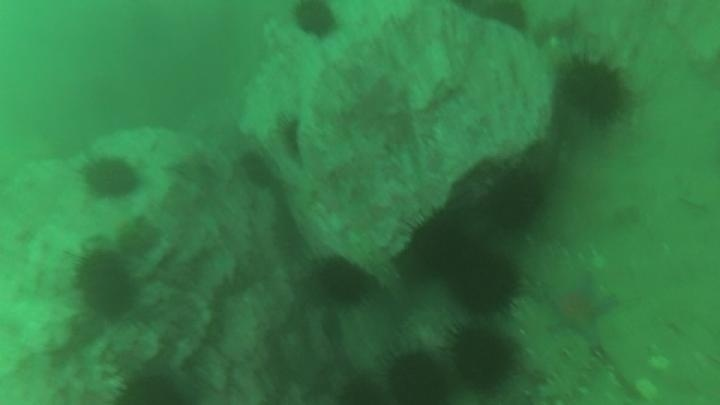echinus: (556, 55, 632, 126), (445, 323, 519, 393), (448, 250, 523, 317), (72, 249, 140, 321), (405, 209, 475, 278), (483, 167, 549, 234), (384, 350, 452, 405), (313, 255, 371, 307), (112, 368, 195, 404), (80, 154, 142, 202), (290, 1, 341, 42), (477, 1, 531, 38), (520, 138, 562, 181), (273, 113, 306, 165), (237, 150, 277, 191), (336, 375, 388, 405)
holothurian: (533, 343, 598, 404)
starfish: (543, 273, 618, 345)
